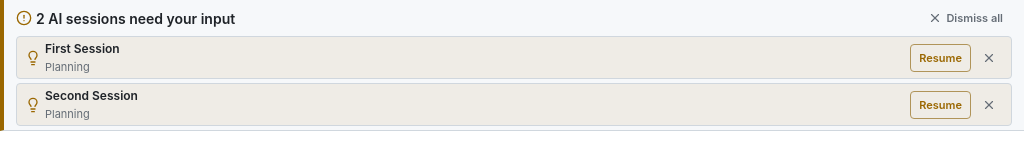
Test: SessionNotificationBanner › removes dismissed sessions from the banner
The width and height of the screenshot is (1024, 160).
Click the button named "Dismiss First Session" at (989, 58), box [975,44,1003,72]
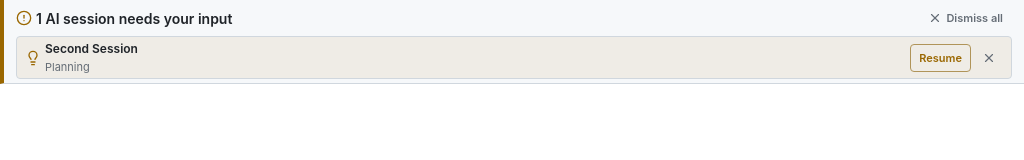
Expected: the text "Second Session" is shown, [45,41,138,56]
Expected: the text "First Session" is gone
